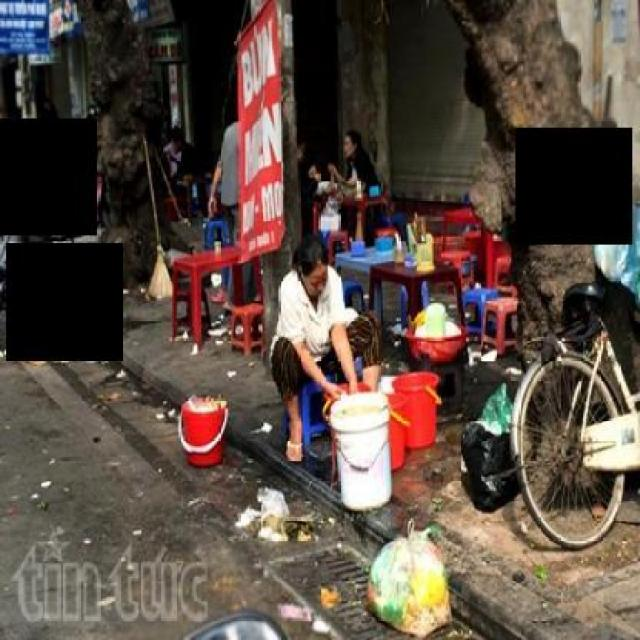plastic bag: (362, 515, 452, 637), (229, 477, 329, 566), (457, 375, 521, 511), (591, 132, 640, 297), (0, 318, 100, 384)
